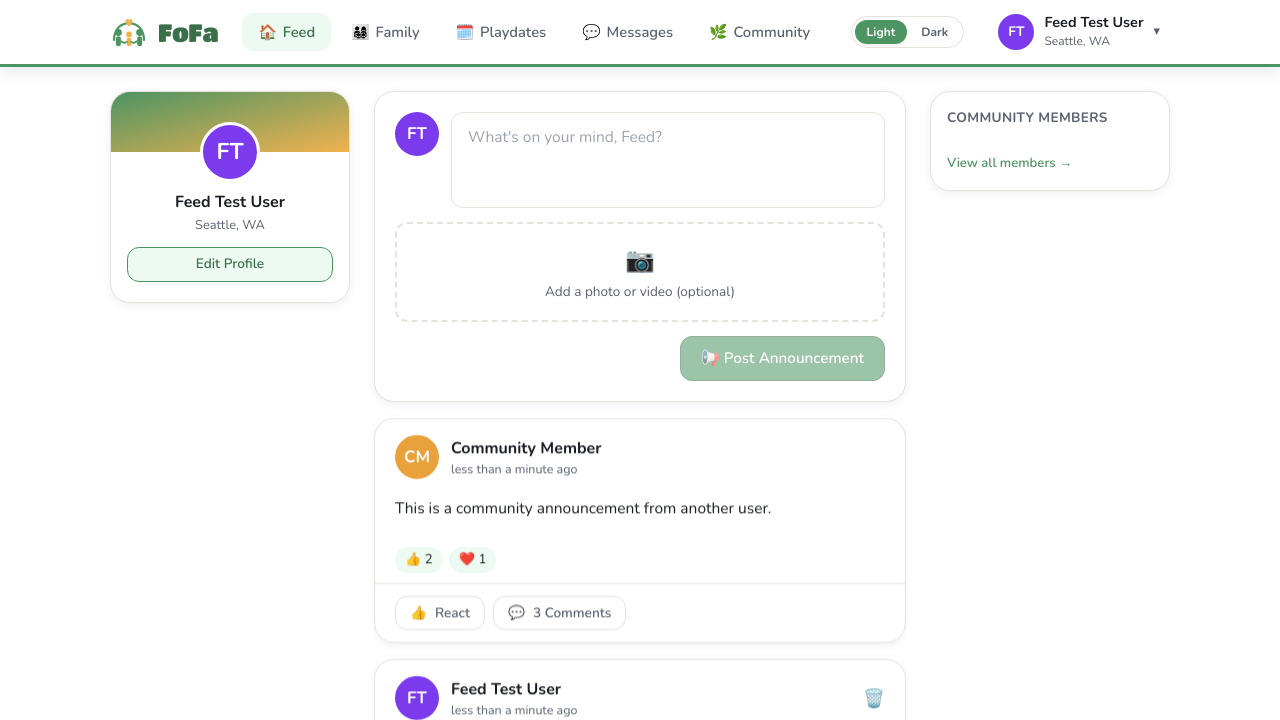
Test: UC-03: Dashboard & Announcements › opens comments section
Click the button "💬 3 Comments": (560, 613) [493,596,626,630]
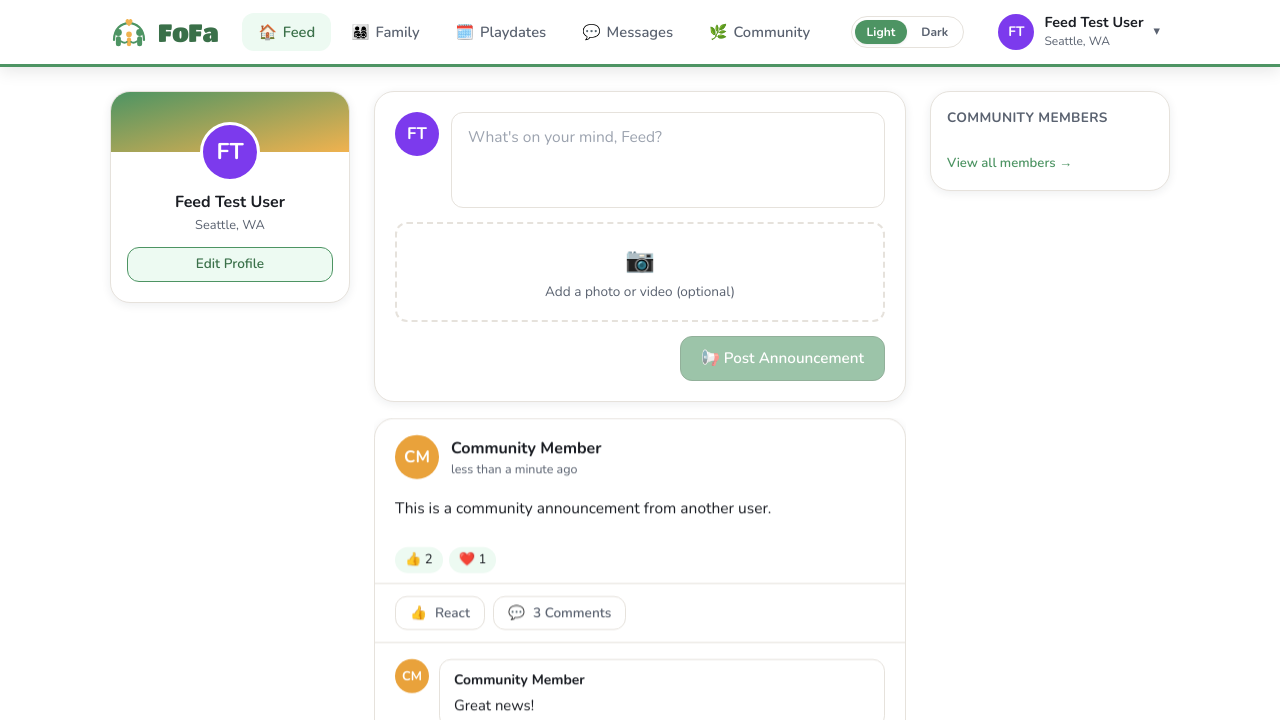
Expected: the text "Great news!" is shown, [454,695,534,715]
